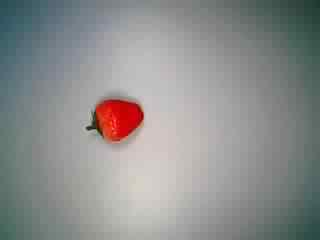strawberry: (85, 93, 147, 157)
